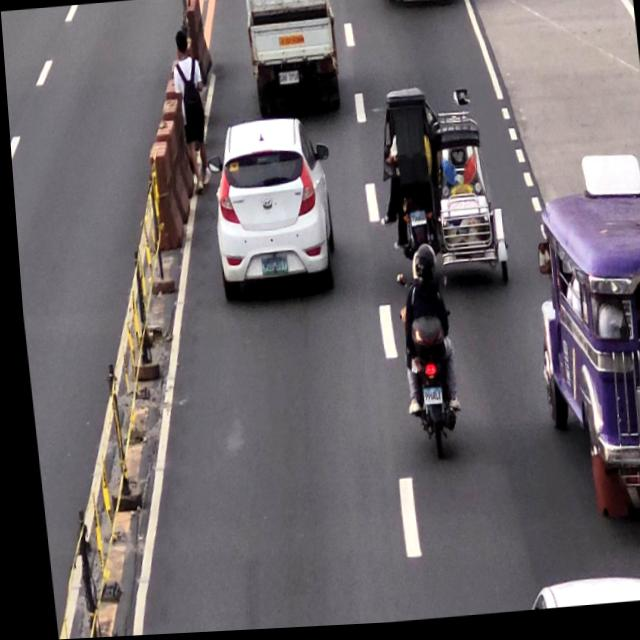Car: (203, 117, 330, 298)
Jeep: (530, 194, 640, 539)
License-Plate: (254, 256, 284, 277), (415, 388, 437, 412), (276, 73, 298, 90), (404, 213, 423, 232)
Motorcycle: (391, 249, 455, 466)
Tricycle: (381, 84, 506, 288)
Truck: (240, 0, 342, 117)
